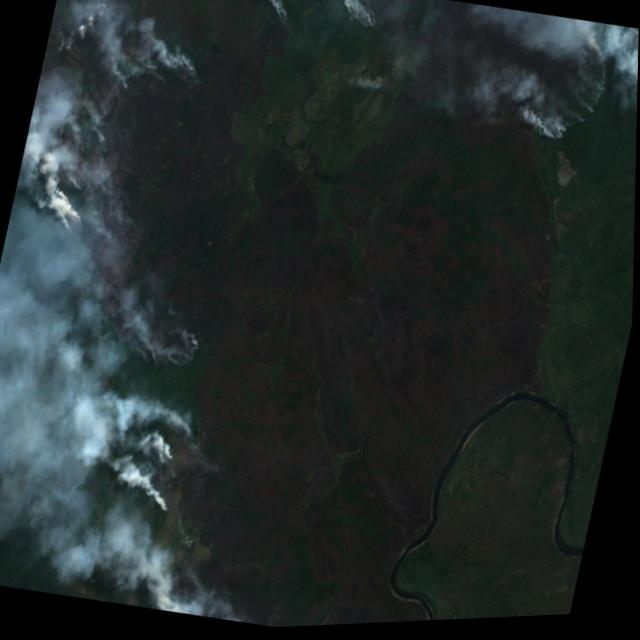fire: (56, 287, 284, 626), (24, 0, 217, 255), (511, 14, 639, 178), (256, 0, 395, 53)
